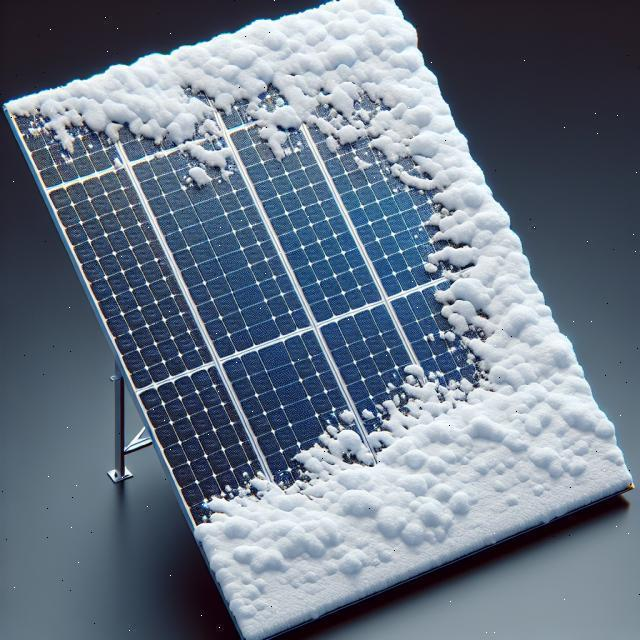Anomaly Solar Panel: (6, 0, 635, 637)
Snow: (11, 0, 633, 638)
